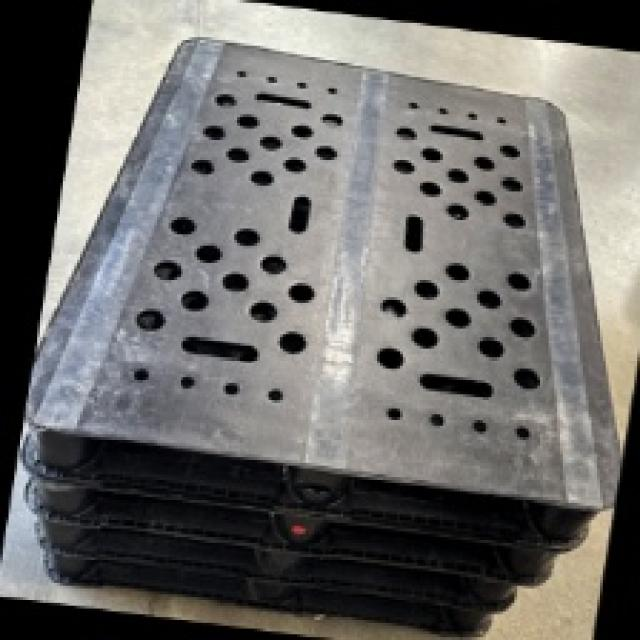igps: (2, 27, 640, 561), (6, 428, 562, 597), (24, 495, 526, 623), (29, 512, 498, 640)
